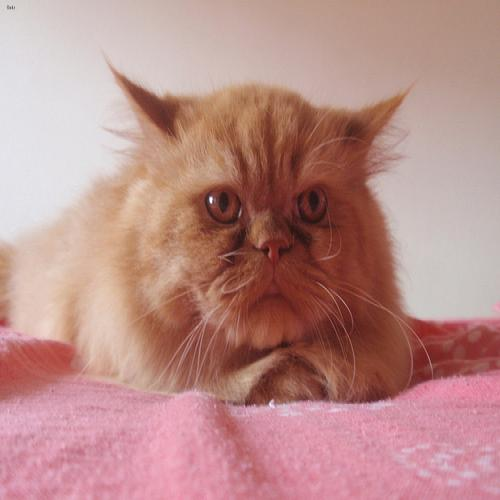persian: (108, 60, 406, 370)
